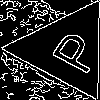P: (41, 24, 100, 76)
